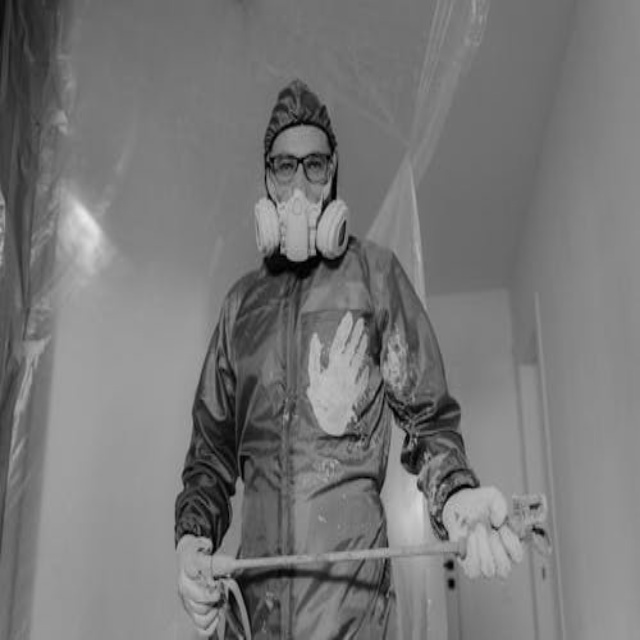Gafas: (268, 152, 334, 184)
Guantes: (426, 467, 530, 586), (170, 521, 228, 634)
Mascara: (254, 188, 349, 262)
